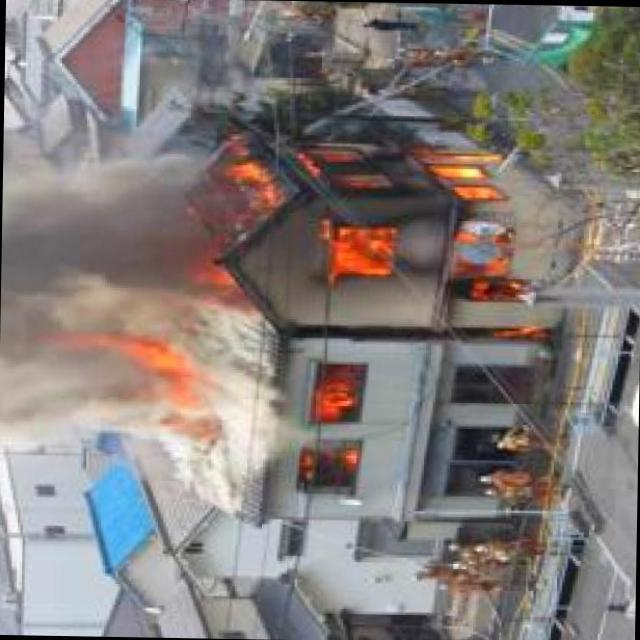Fire: (201, 141, 538, 308), (300, 370, 362, 493), (129, 344, 202, 411)
